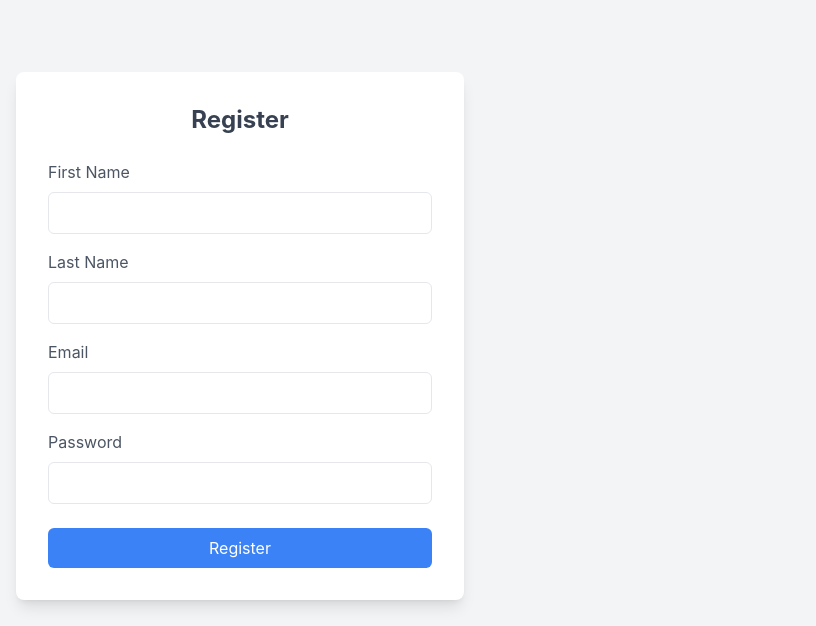
Test: Register (integration) › shows backend error message on registration failure
The width and height of the screenshot is (816, 626).
Step 1. Type "Test" into the field labelled "First Name" → (240, 213), box [48,192,432,234]
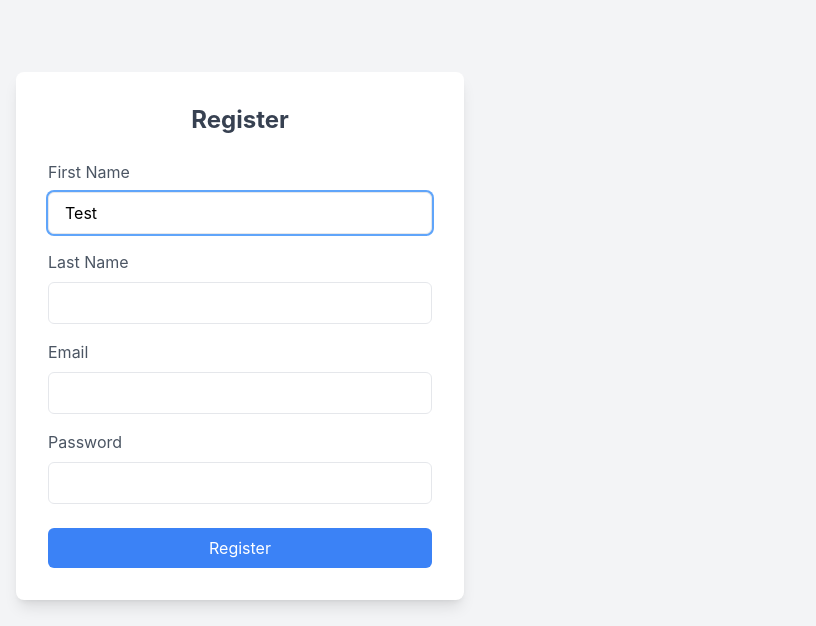
Step 2. Type "User" into the field labelled "Last Name" → (240, 303), box [48,282,432,324]
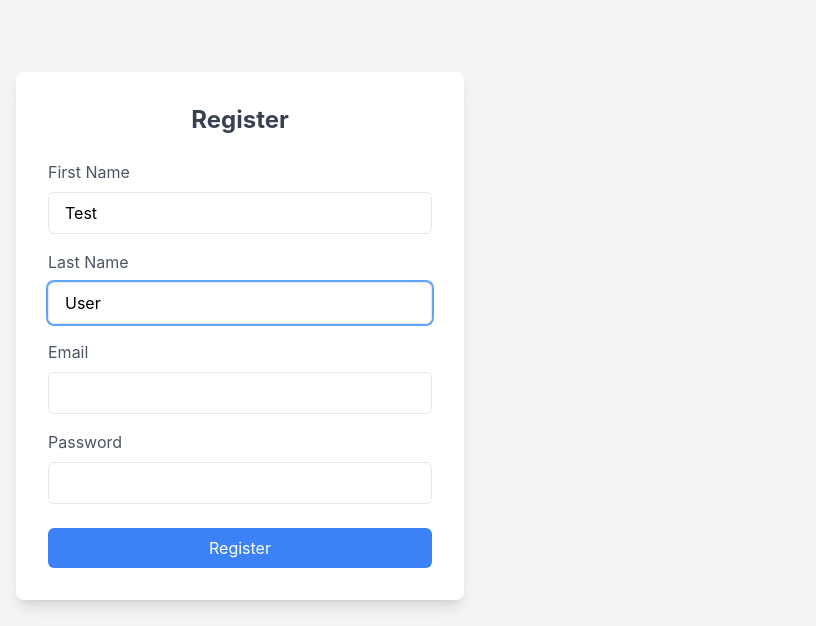
Step 3. Type "test.user@example.com" into the field labelled "Email" → (240, 393), box [48,372,432,414]
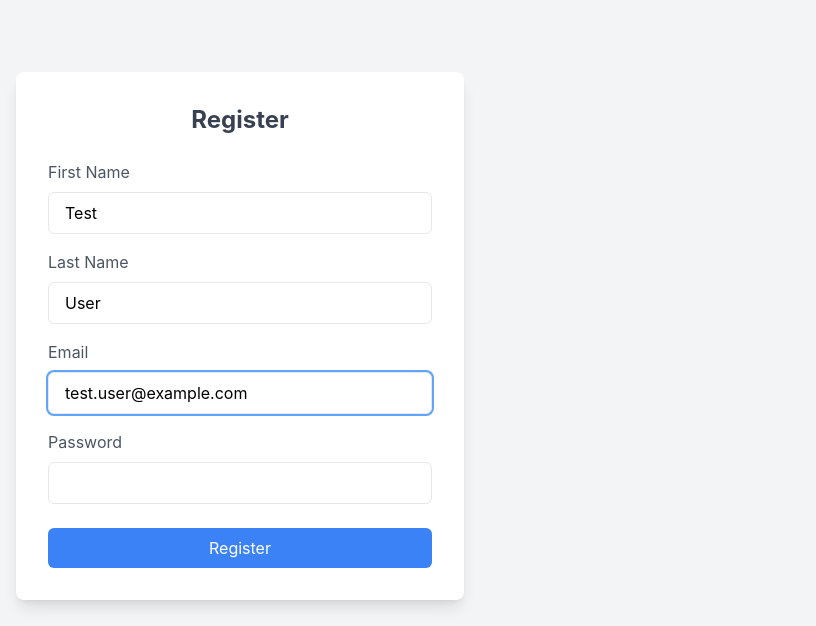
Step 4. Type "password" into the password field labelled "Password" → (240, 483), box [48,462,432,504]
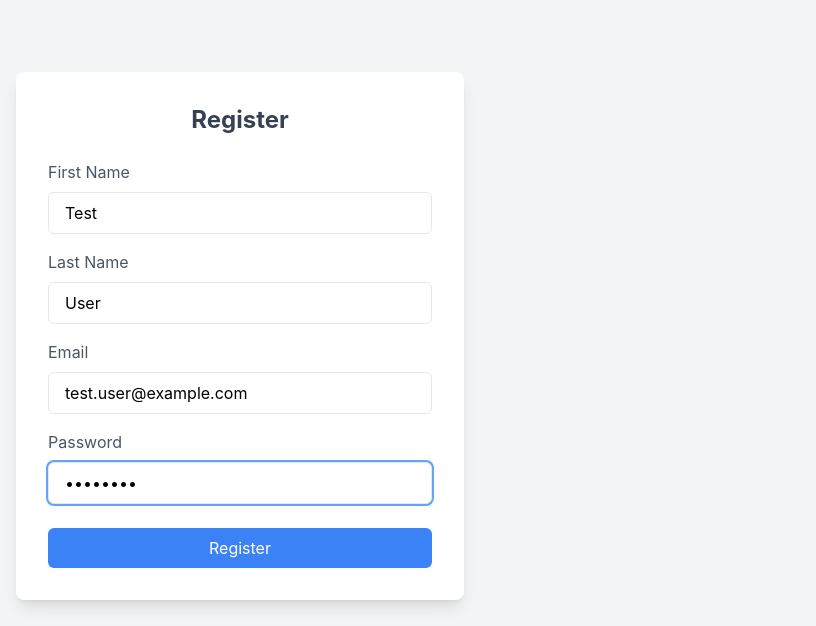
Step 5. Click the button "Register" → (240, 548), box [48,528,432,568]
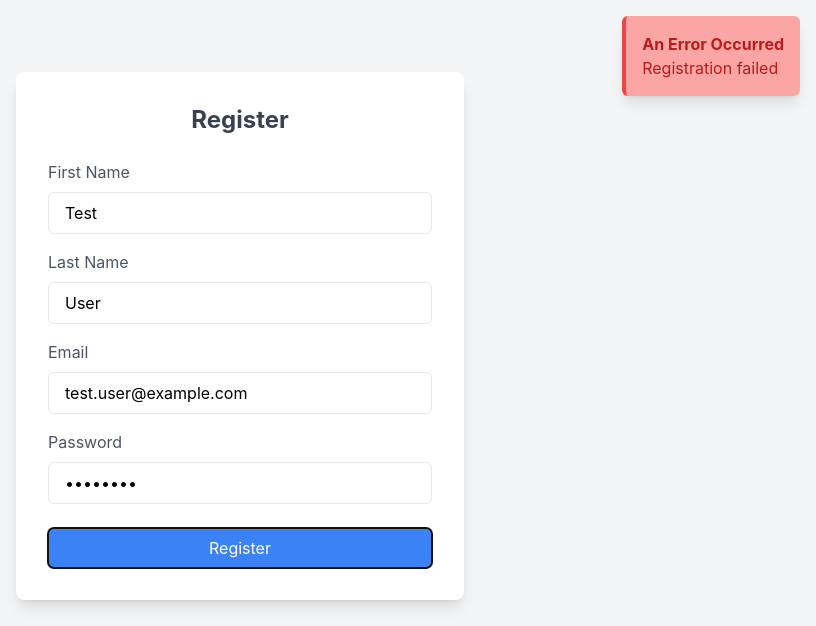
Result: the text "Registration failed" is shown at [642,56,784,80]
